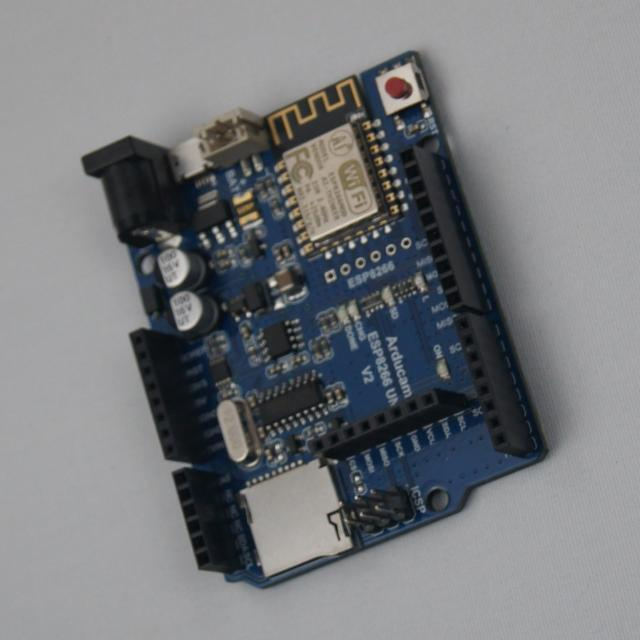Arduino Uno Camera Shield: (83, 52, 547, 587)
